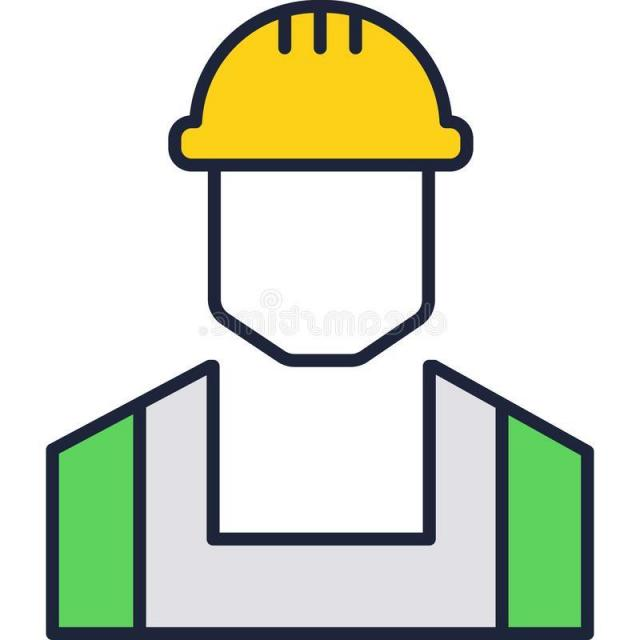Safety-Helmet: (172, 6, 477, 171)
